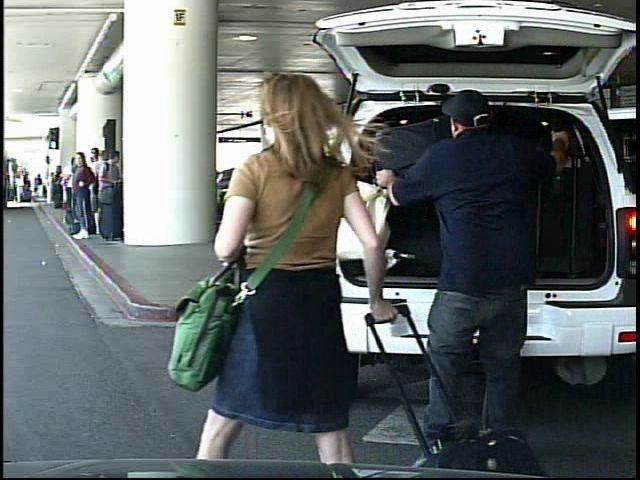person: (209, 60, 391, 467), (392, 83, 556, 431), (15, 174, 26, 205), (35, 173, 46, 200)
